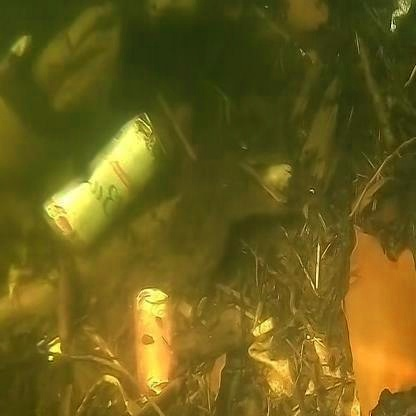can: (54, 87, 166, 247), (131, 276, 186, 397)
